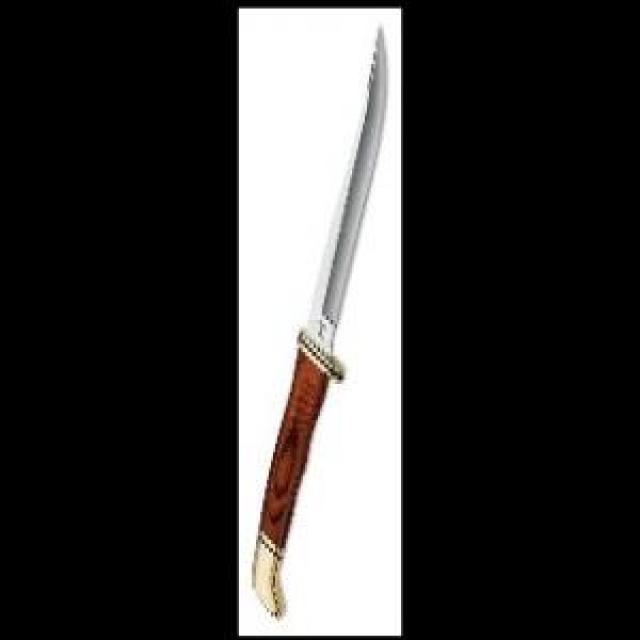knife: (254, 23, 390, 607)
